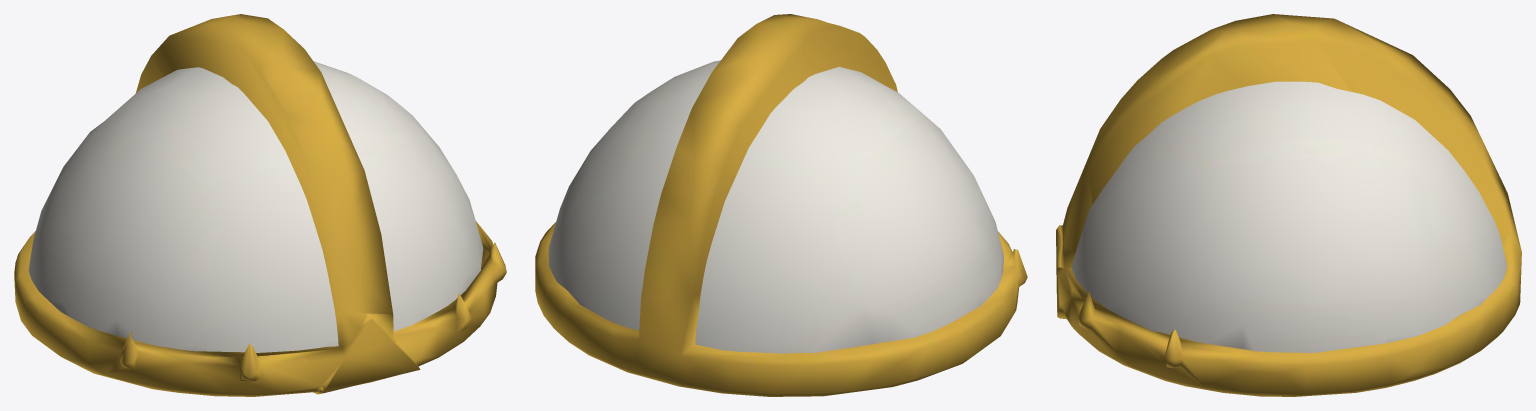
Rendered from guardian-helm.glb.
The picture shows the model from 3 angles, left to right: view 1: azimuth 30°, elevation 25°; view 2: azimuth 150°, elevation 25°; view 3: azimuth 270°, elevation 25°; orthographic projection.
Parts seen in each view (by area): view 1: helm; view 2: helm; view 3: helm.
Part boxes in pixels (left/top/right/bottom): helm: left=14, top=14, right=506, bottom=396; helm: left=535, top=14, right=1027, bottom=396; helm: left=1056, top=14, right=1521, bottom=396.
Size of the model in its own units: 0.4777 by 0.2939 by 0.4504.
1 material, 1 textured.
